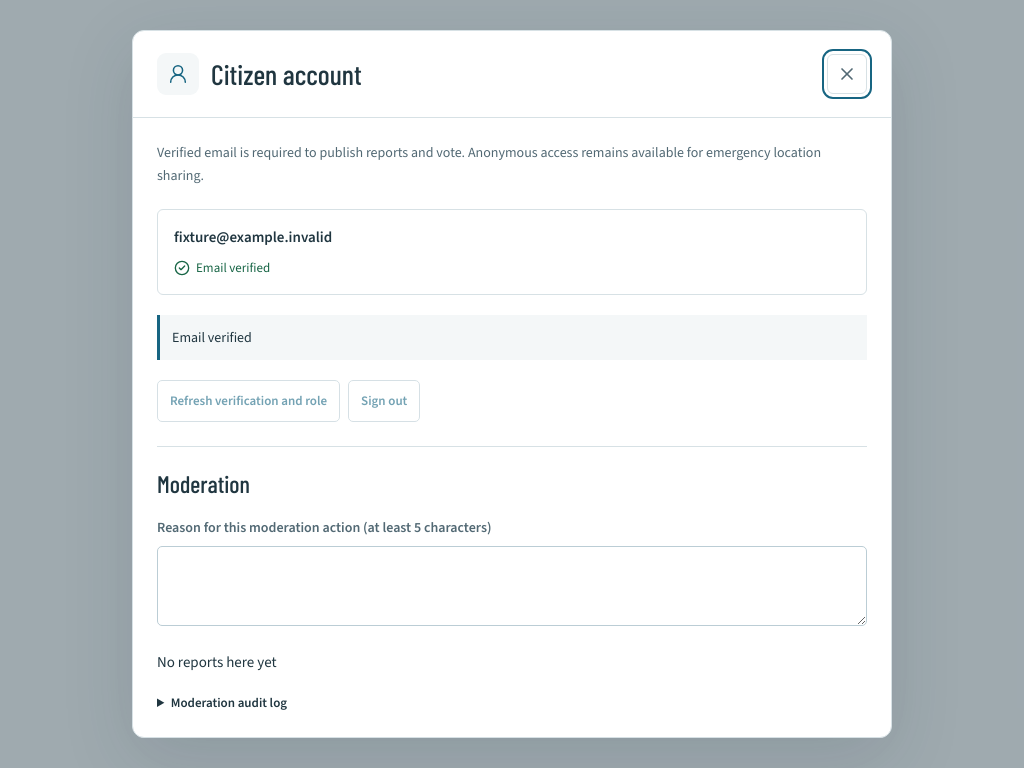
Test case: initial moderator refresh cannot overlap an explicit refresh and revive stale health
Click the button "Refresh verification and role": (249, 401) [157,380,340,422]
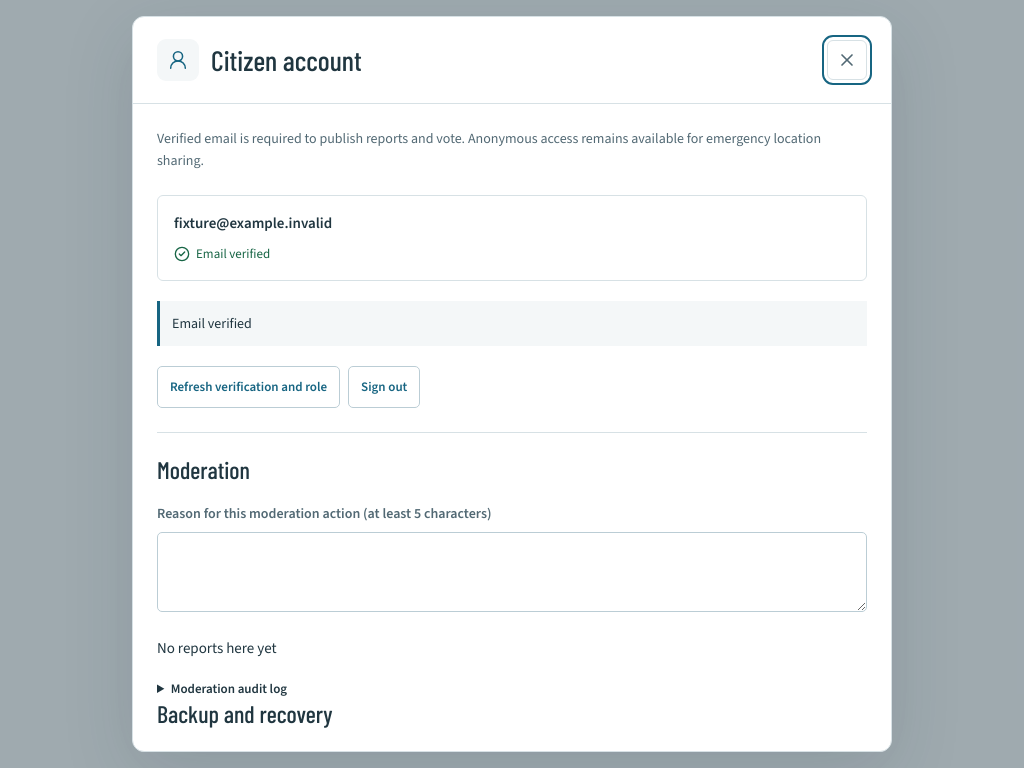
Result: the button "Refresh verification and role" is enabled at [157,366,340,408]
